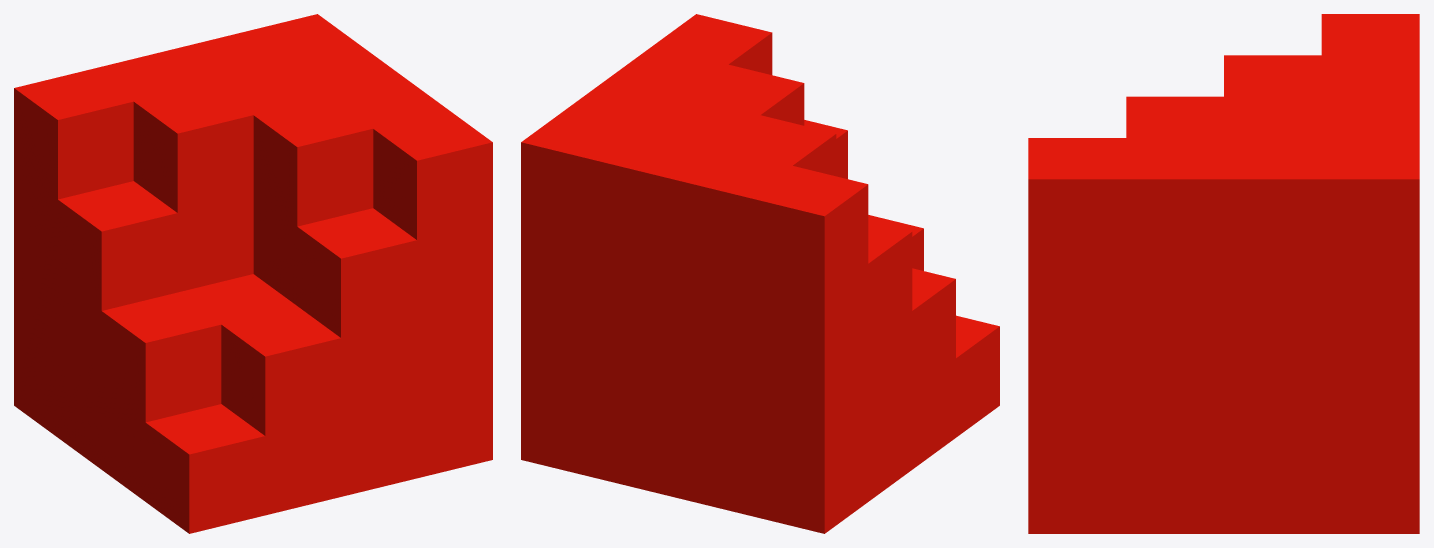
The model's file is fform_4.glb.
3 renders of one model, left to right at view 1: azimuth 30°, elevation 25°; view 2: azimuth 150°, elevation 25°; view 3: azimuth 270°, elevation 25°, orthographic. The views are drawn at different scales.
Visible parts, largest first — view 1: FFORM_0; view 2: FFORM_0; view 3: FFORM_0.
Boxes of the visible parts, x1,y1,x2,y2 form: FFORM_0: (14, 14, 492, 533); FFORM_0: (521, 14, 999, 533); FFORM_0: (1028, 14, 1419, 533).
Size of the model in its own units: 4 by 4 by 4.
